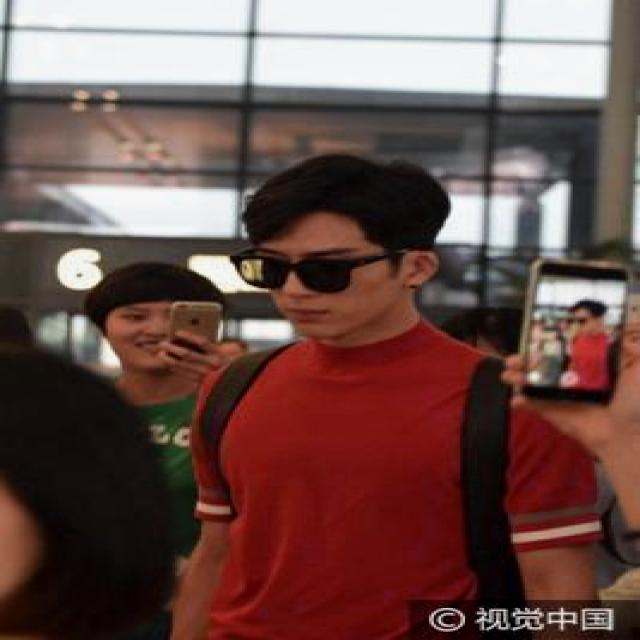face_nomask: (256, 238, 402, 338), (106, 302, 190, 374)
glasses: (222, 251, 366, 299)
head_nohelmet: (244, 149, 434, 253), (101, 255, 225, 316)
person: (174, 145, 579, 640)
